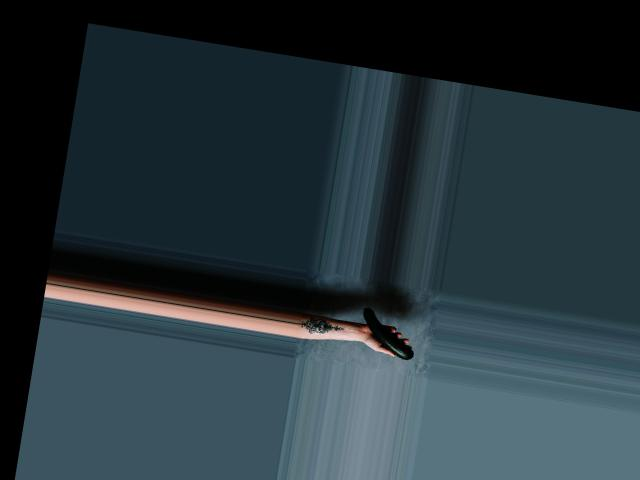cucumber: (357, 306, 420, 360)
